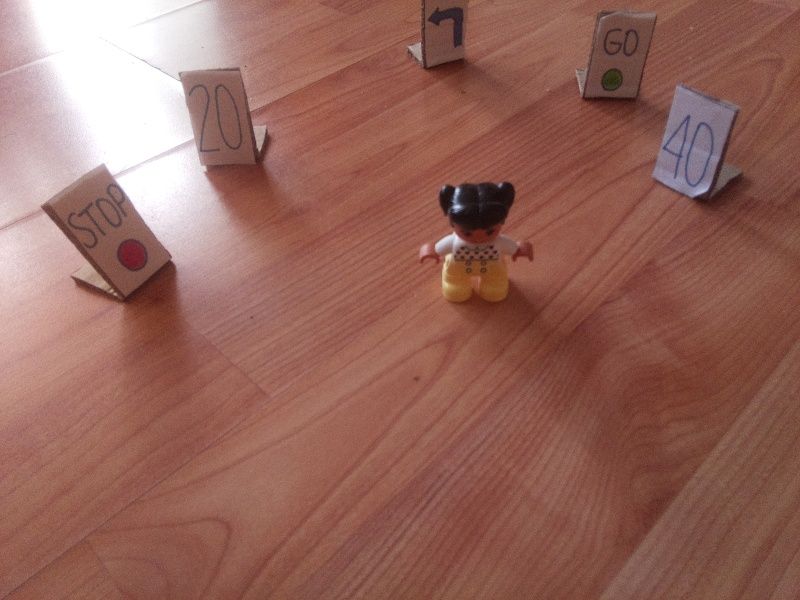20: (187, 79, 249, 157)
40: (662, 113, 720, 194)
go: (597, 25, 641, 93)
person: (411, 179, 536, 314)
stop: (67, 182, 155, 272)
turn left: (427, 1, 470, 55)
